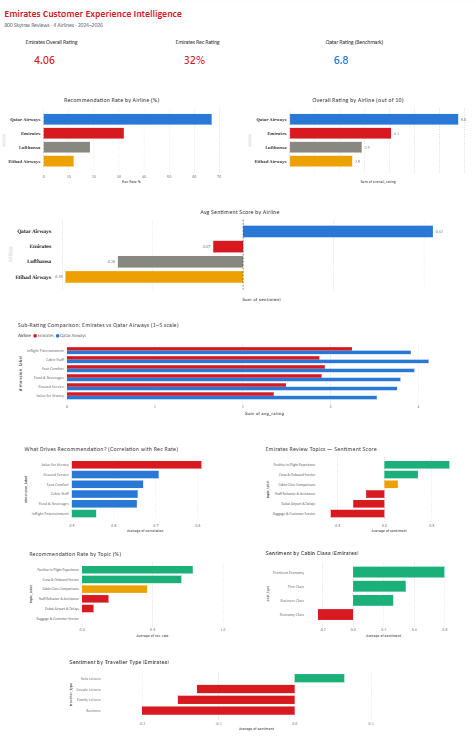

Layout of this report page (visuals, bound fields, positions):
{"tool":"powerbi","page":{"name":"Executive Overview","canvas":[1400,2200],"ordinal":0},"visuals":[{"type":"cardVisual","title":"Emirates Overall Rating","fields":{"Data":["Sum(pbi_airline_summary.overall_rating)"]},"box":[67.9,126.3,420.1,99.9],"z":0},{"type":"clusteredBarChart","title":"Avg Sentiment Score by Airline","fields":{"Category":["pbi_airline_summary.airline_label"],"Y":["Sum(pbi_airline_summary.sentiment)"]},"box":[20,619.8,1360.1,280],"z":1000},{"type":"clusteredBarChart","title":"Overall Rating by Airline (out of 10)","fields":{"Category":["pbi_airline_summary.airline_label"],"Y":["Sum(pbi_airline_summary.overall_rating)"]},"box":[715,296.1,650,260],"z":2000},{"type":"clusteredBarChart","title":"Recommendation Rate by Airline (%)","fields":{"Category":["pbi_airline_summary.airline_label"],"Y":["pbi_airline_summary.Rec Rate %"]},"box":[0,296.1,650,260],"z":3000},{"type":"cardVisual","title":"Emirates Rec Rating","fields":{"Data":["Sum(pbi_airline_summary.rec_rate)"]},"box":[505.1,126.3,420,100],"z":4000},{"type":"cardVisual","title":"Qatar Rating (Benchmark)","fields":{"Data":["Sum(pbi_airline_summary.overall_rating)"]},"box":[942.3,126.3,420.1,99.9],"z":5000},{"type":"textbox","title":"Emirates Customer Experience Intelligence","box":[11,5,1360,90],"z":6000},{"type":"clusteredBarChart","title":"Sub-Rating Comparison: Emirates vs Qatar Airways (1–5 scale)","fields":{"Category":["pbi_subratings.dimension_label"],"Y":["Sum(pbi_subratings.avg_rating)"],"Series":["pbi_subratings.airline_label"]},"box":[46.9,949.2,1306.1,280],"z":7000},{"type":"clusteredBarChart","title":"What Drives Recommendation? (Correlation with Rec Rate)","fields":{"Y":["Avg(pbi_correlation.correlation)"],"Category":["pbi_correlation.dimension_label"]},"box":[65.4,1308.4,584,260.5],"z":8000},{"type":"clusteredBarChart","title":"Emirates Review Topics — Sentiment Score","fields":{"Category":["pbi_topics.topic_label"],"Y":["Avg(pbi_topics.sentiment)"]},"box":[769,1308.4,584.2,260.5],"z":9000},{"type":"clusteredBarChart","title":"Recommendation Rate by Topic (%)","fields":{"Category":["pbi_topics.topic_label"],"Y":["Avg(pbi_topics.rec_rate)"]},"box":[81.5,1613.7,581.9,259.4],"z":10000},{"type":"clusteredBarChart","title":"Sentiment by Cabin Class (Emirates)","fields":{"Category":["pbi_cabin.seat_type"],"Y":["Avg(pbi_cabin.sentiment)"]},"box":[769,1613.7,584.2,259.4],"z":11000},{"type":"clusteredBarChart","title":"Sentiment by Traveller Type (Emirates)","fields":{"Category":["pbi_traveller.traveller_type"],"Y":["Avg(pbi_traveller.sentiment)"]},"box":[196.2,1931.6,1007.6,214.6],"z":12000}]}

Visuals, with their boxes in screenshot pixels (x1, y1, x2, y2), scaled from the page's 1400x2200 canvas onto the 476x742 screenshot:
"Emirates Overall Rating" cardVisual: <region>23, 43, 166, 76</region>
"Avg Sentiment Score by Airline" clusteredBarChart: <region>7, 209, 469, 303</region>
"Overall Rating by Airline (out of 10)" clusteredBarChart: <region>243, 100, 464, 188</region>
"Recommendation Rate by Airline (%)" clusteredBarChart: <region>0, 100, 221, 188</region>
"Emirates Rec Rating" cardVisual: <region>172, 43, 315, 76</region>
"Qatar Rating (Benchmark)" cardVisual: <region>320, 43, 463, 76</region>
"Emirates Customer Experience Intelligence" textbox: <region>4, 2, 466, 32</region>
"Sub-Rating Comparison: Emirates vs Qatar Airways (1–5 scale)" clusteredBarChart: <region>16, 320, 460, 415</region>
"What Drives Recommendation? (Correlation with Rec Rate)" clusteredBarChart: <region>22, 441, 221, 529</region>
"Emirates Review Topics — Sentiment Score" clusteredBarChart: <region>261, 441, 460, 529</region>
"Recommendation Rate by Topic (%)" clusteredBarChart: <region>28, 544, 226, 632</region>
"Sentiment by Cabin Class (Emirates)" clusteredBarChart: <region>261, 544, 460, 632</region>
"Sentiment by Traveller Type (Emirates)" clusteredBarChart: <region>67, 651, 409, 724</region>
